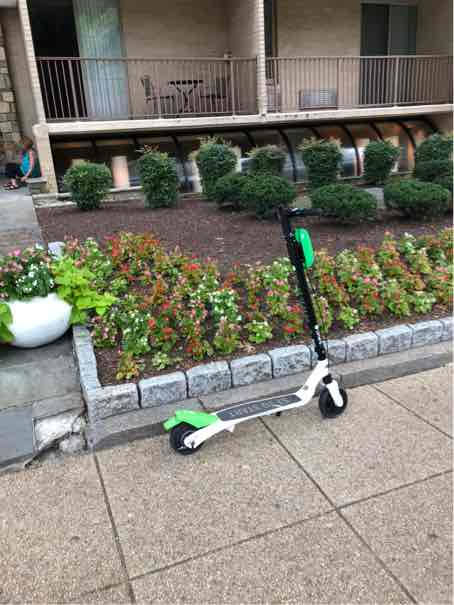scooter: (172, 174, 351, 459)
